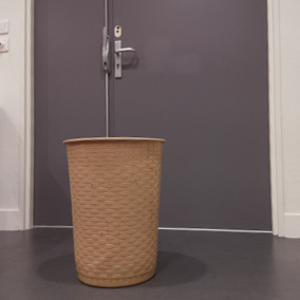medium: (63, 137, 168, 289)
